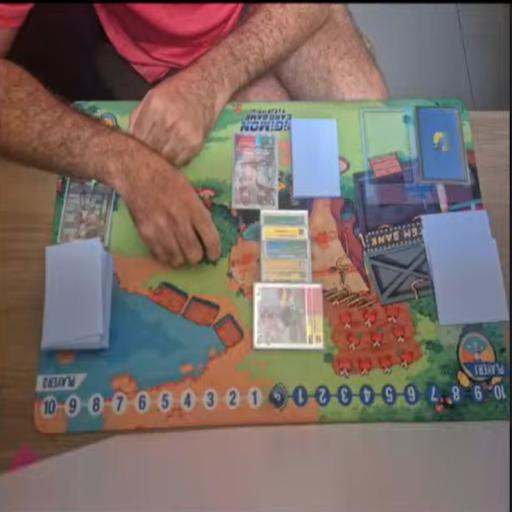card: (251, 283, 324, 352), (54, 167, 120, 243), (232, 132, 278, 208), (260, 258, 312, 284), (261, 238, 312, 260), (260, 208, 310, 225), (260, 227, 311, 239)
